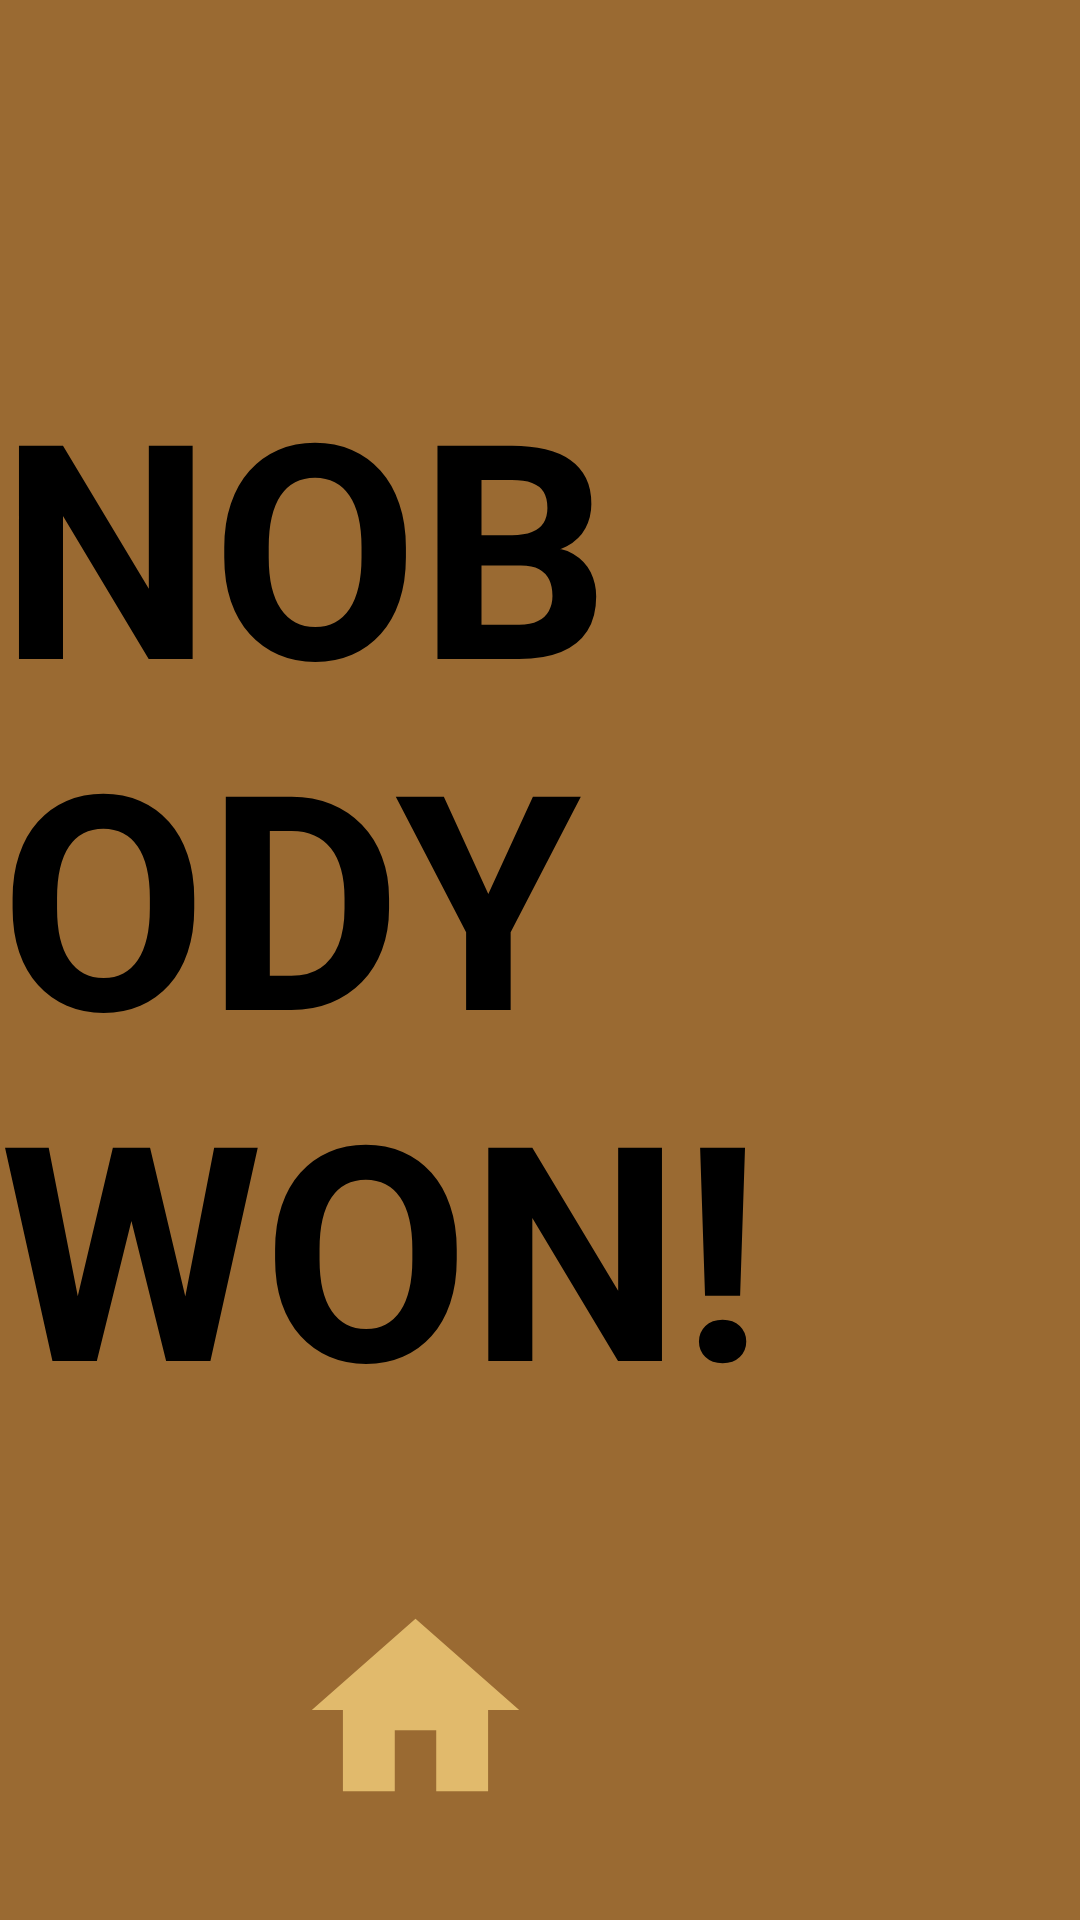

Named icons in this screenshot (1080w x 1920h) and their centers, (x=x, y=y):
home: (x=415, y=1705)
